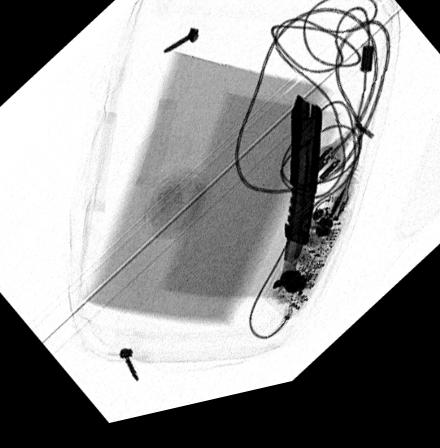Knife: (275, 106, 322, 308)
